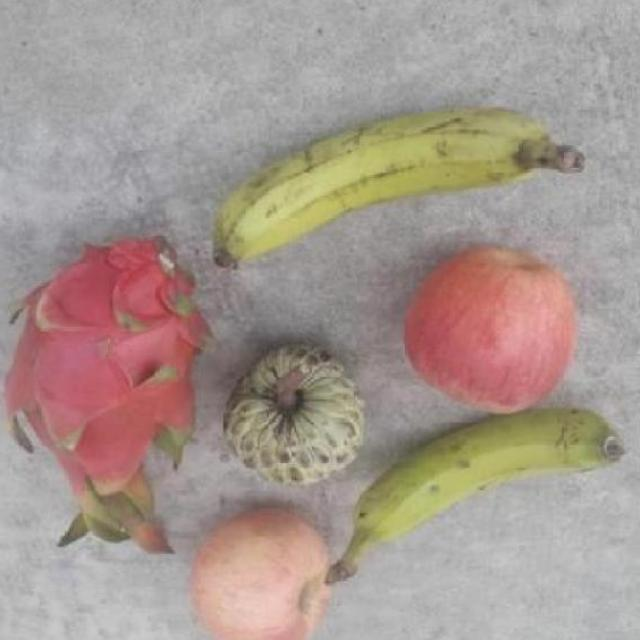apple: (404, 245, 580, 413), (191, 507, 336, 640)
banana: (206, 102, 584, 274), (320, 406, 625, 586)
dragon fruit: (0, 232, 215, 555)
sugar apple: (220, 340, 366, 486)
